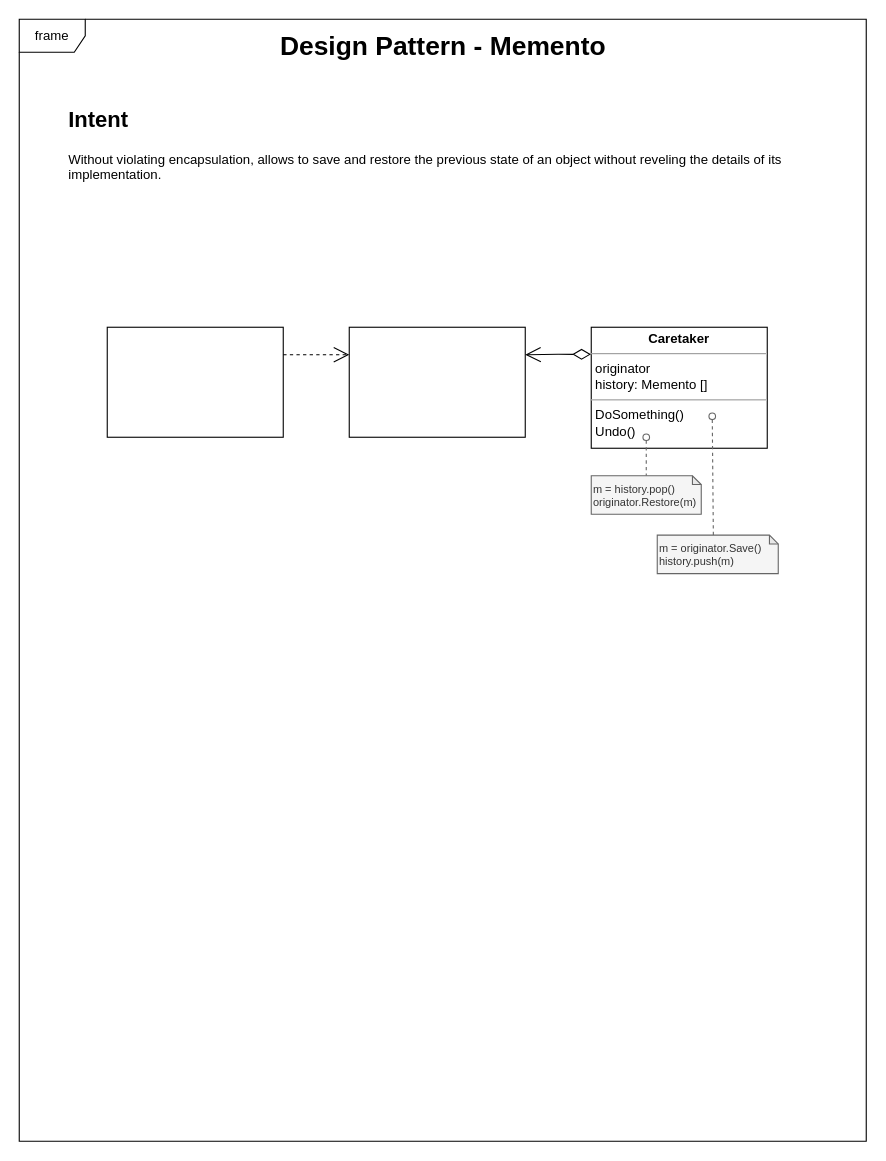
This 886x1161 diagram has some shape labels left out. The box of each missing label's shape, as (x1, y1, x2, y2) in pixels:
Memento state Memento(state) GetState(): (348, 326, 525, 437)
Originator state Save(): Memento Restore(m: Memento): (106, 326, 283, 437)
